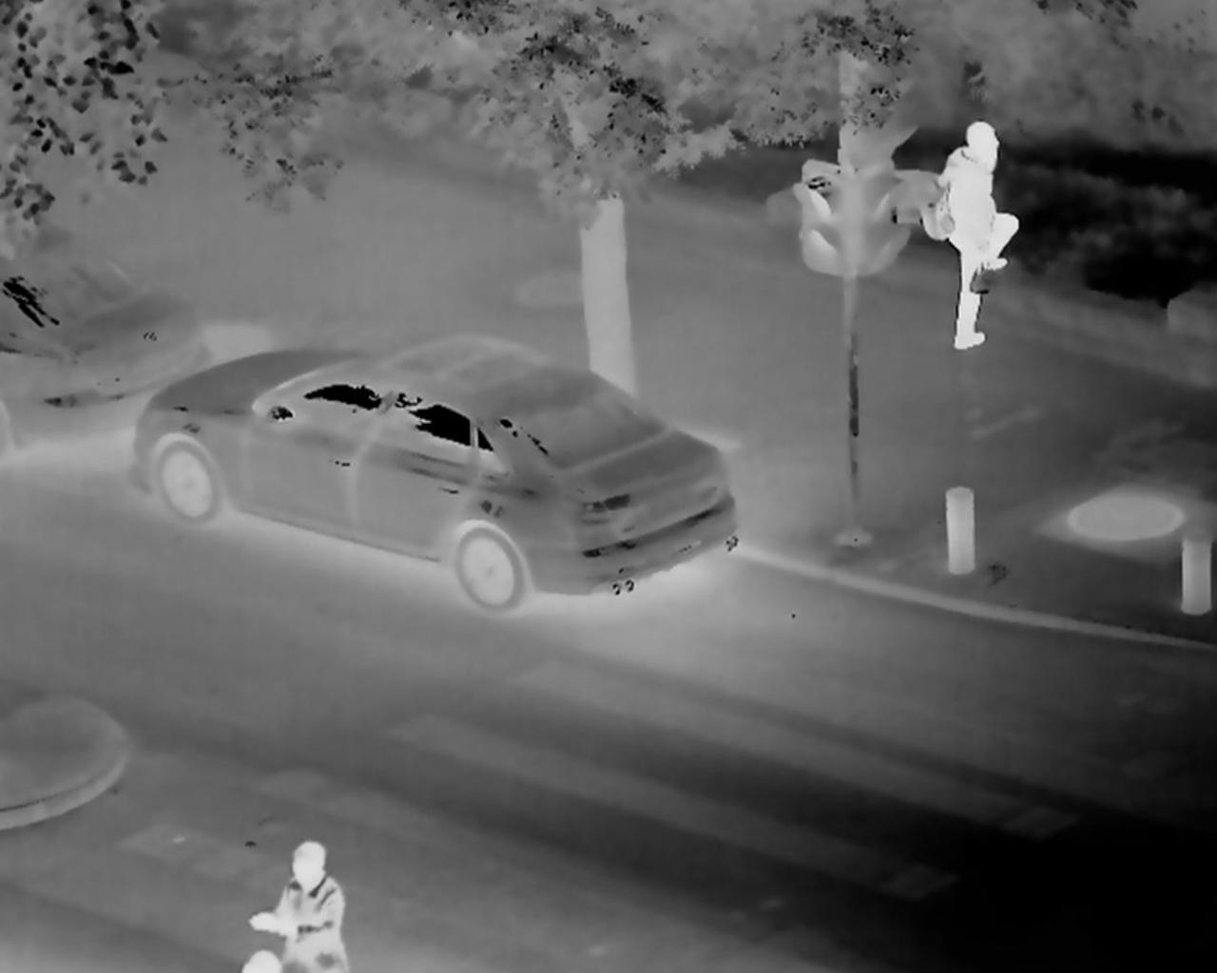person: (918, 114, 1022, 365), (249, 841, 351, 972)
